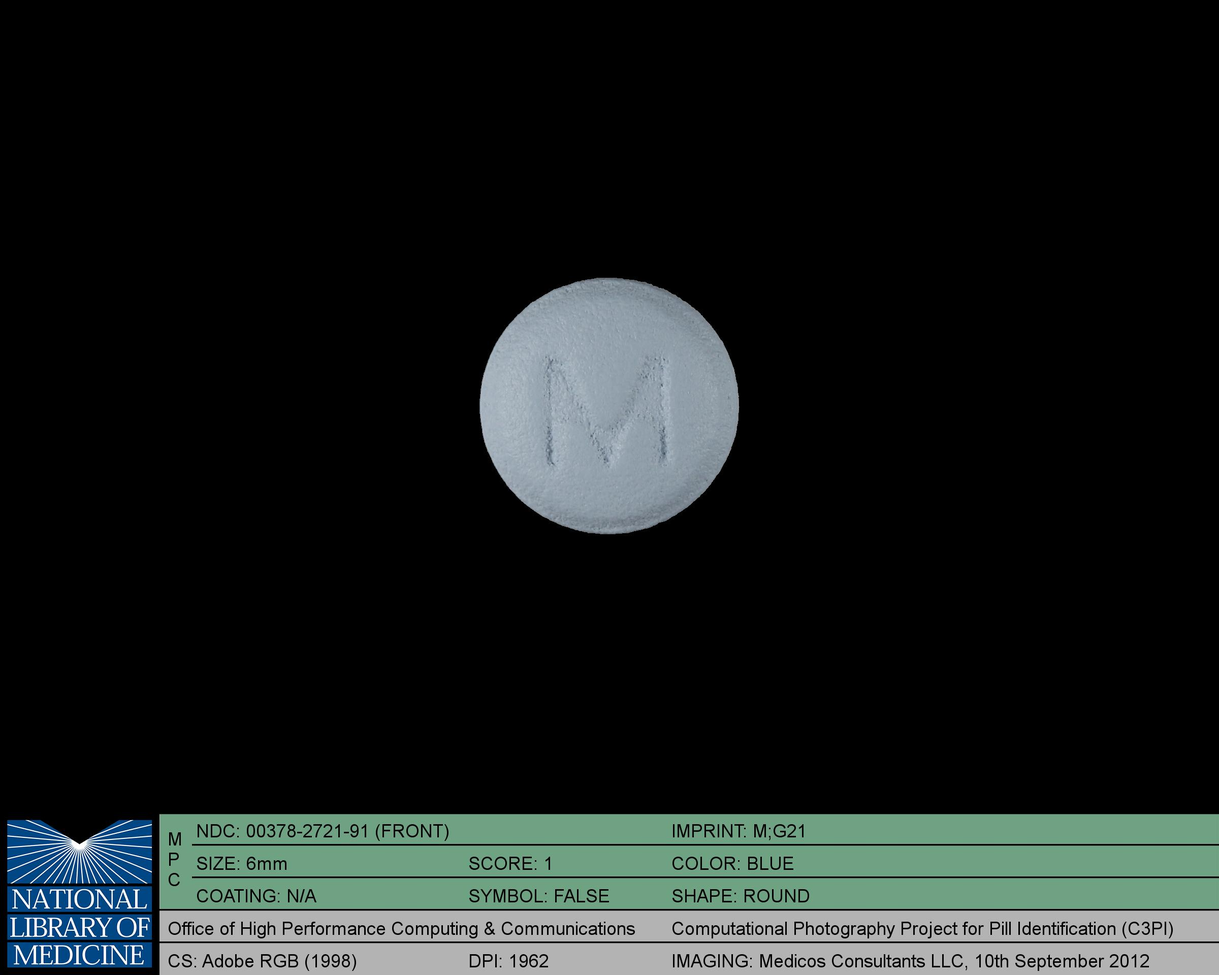Pill: (469, 269, 748, 542)
